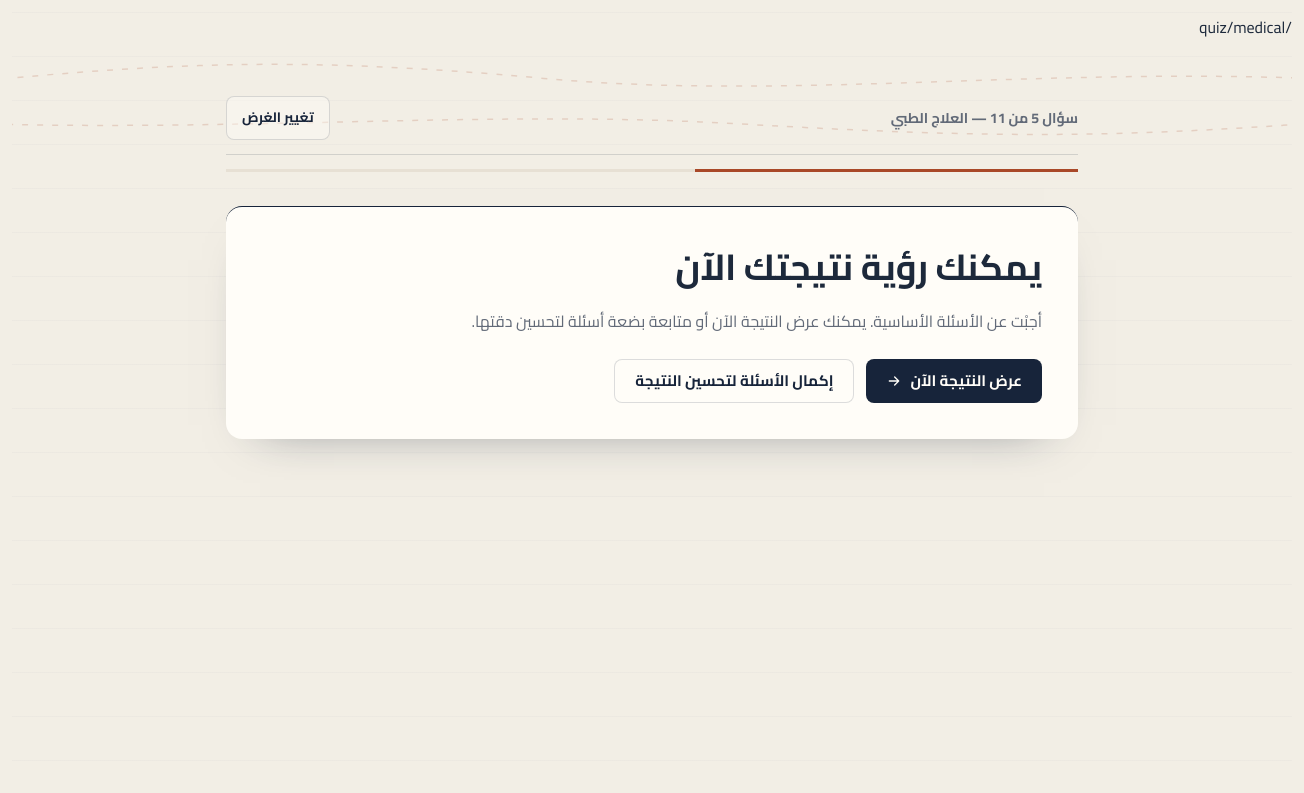
travel needs in the questionnaire › asks them after the Phase 14 questions, keeps them local, and sends nothing about them
Earlier steps of the test are not shown.
Later steps or results of the test are not shown.
Click the button "إكمال الأسئلة لتحسين النتيجة": [734, 381] box [614, 359, 854, 403]
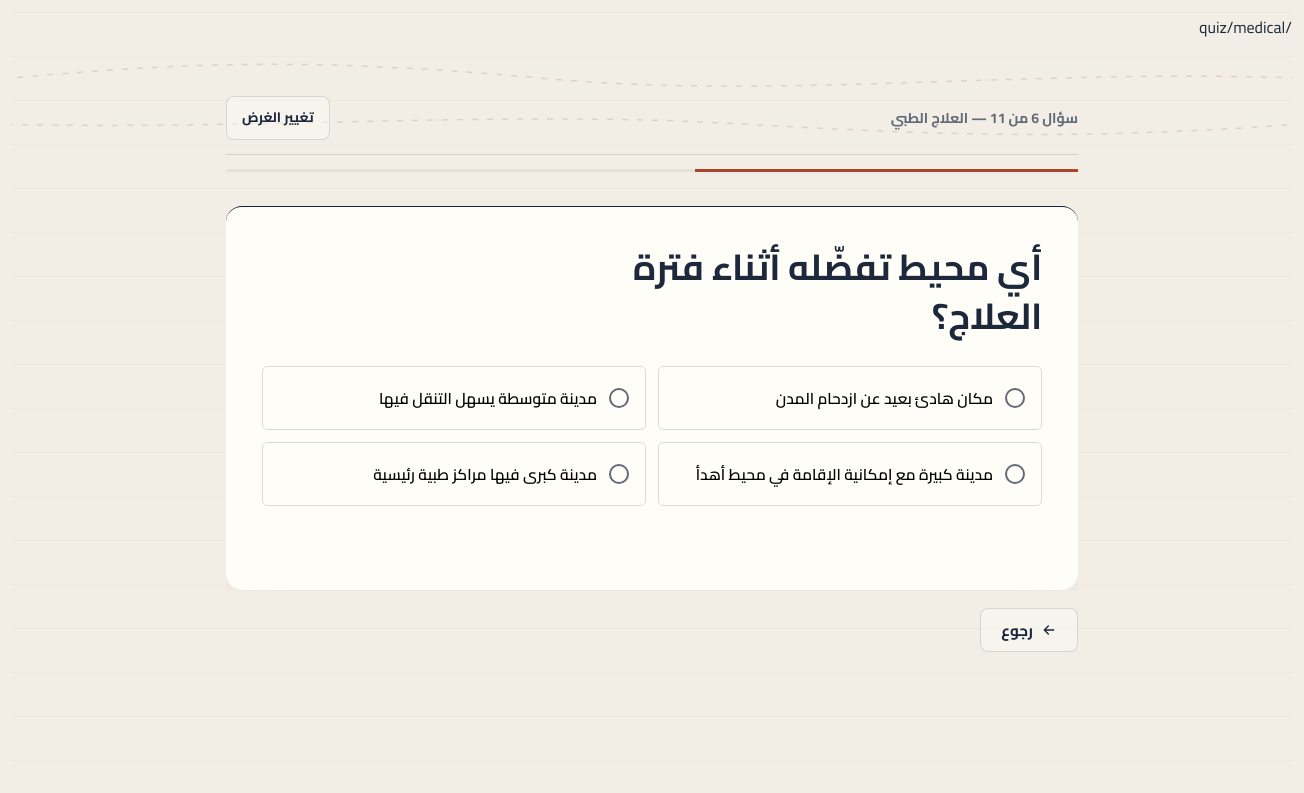
Click the radio button labelled "مكان هادئ بعيد عن ازدحام المدن": [850, 398] box [658, 366, 1042, 430]
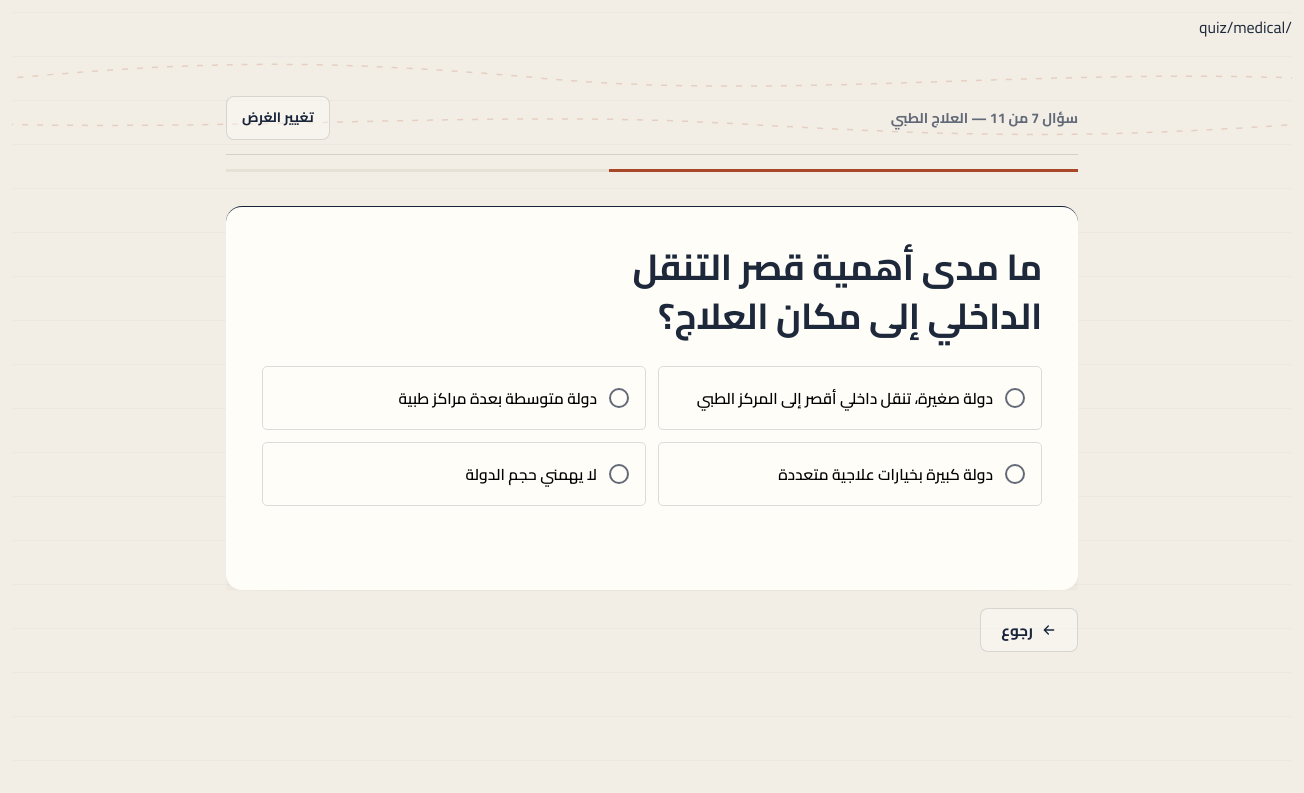
Click the radio button labelled "دولة صغيرة، تنقل داخلي أقصر إلى المركز الطبي": [850, 398] box [658, 366, 1042, 430]
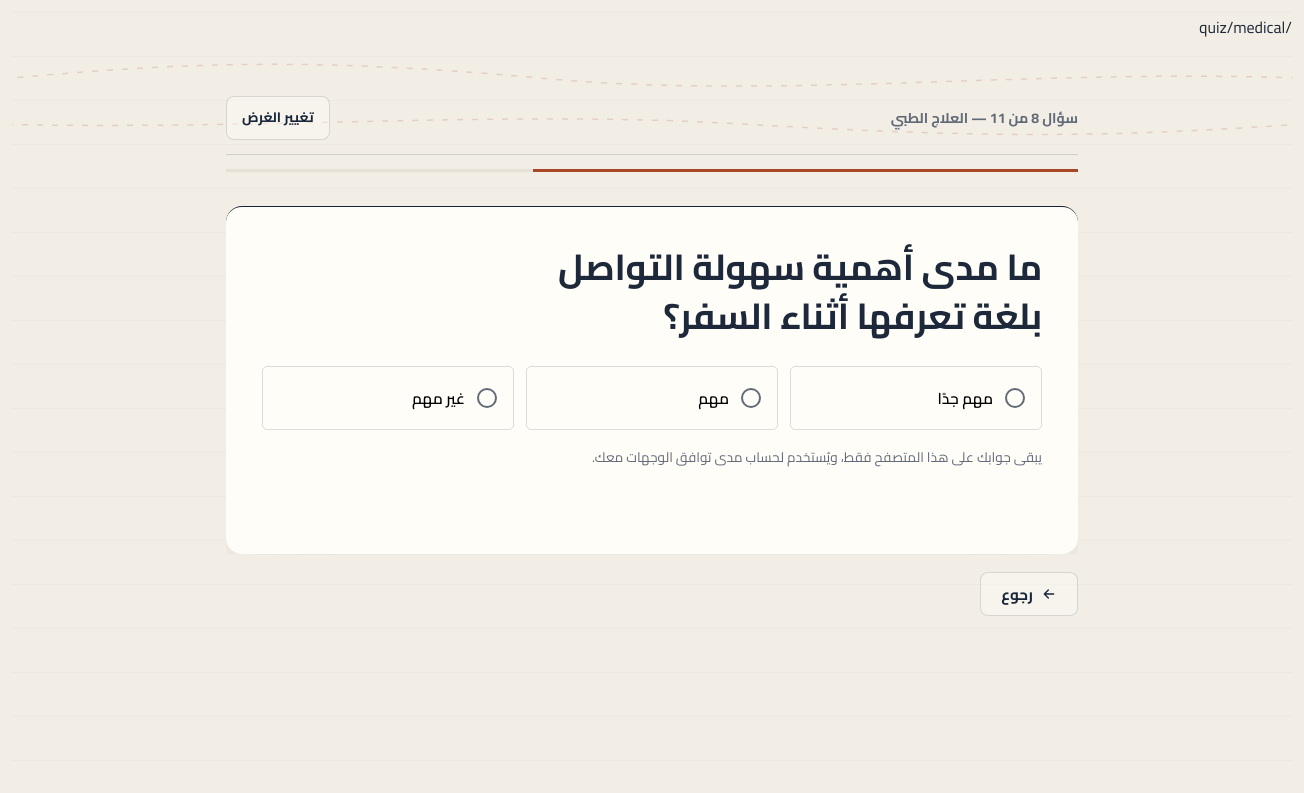
Expected: the heading "ما مدى أهمية سهولة التواصل بلغة تعرفها أثناء السفر؟" is shown, [522, 243, 1042, 340]
Expected: the text "يبقى جوابك على هذا المتصفح فقط" is shown, [592, 444, 1042, 470]
Click the radio button labelled "مهم جدًا": [916, 398] box [790, 366, 1042, 430]
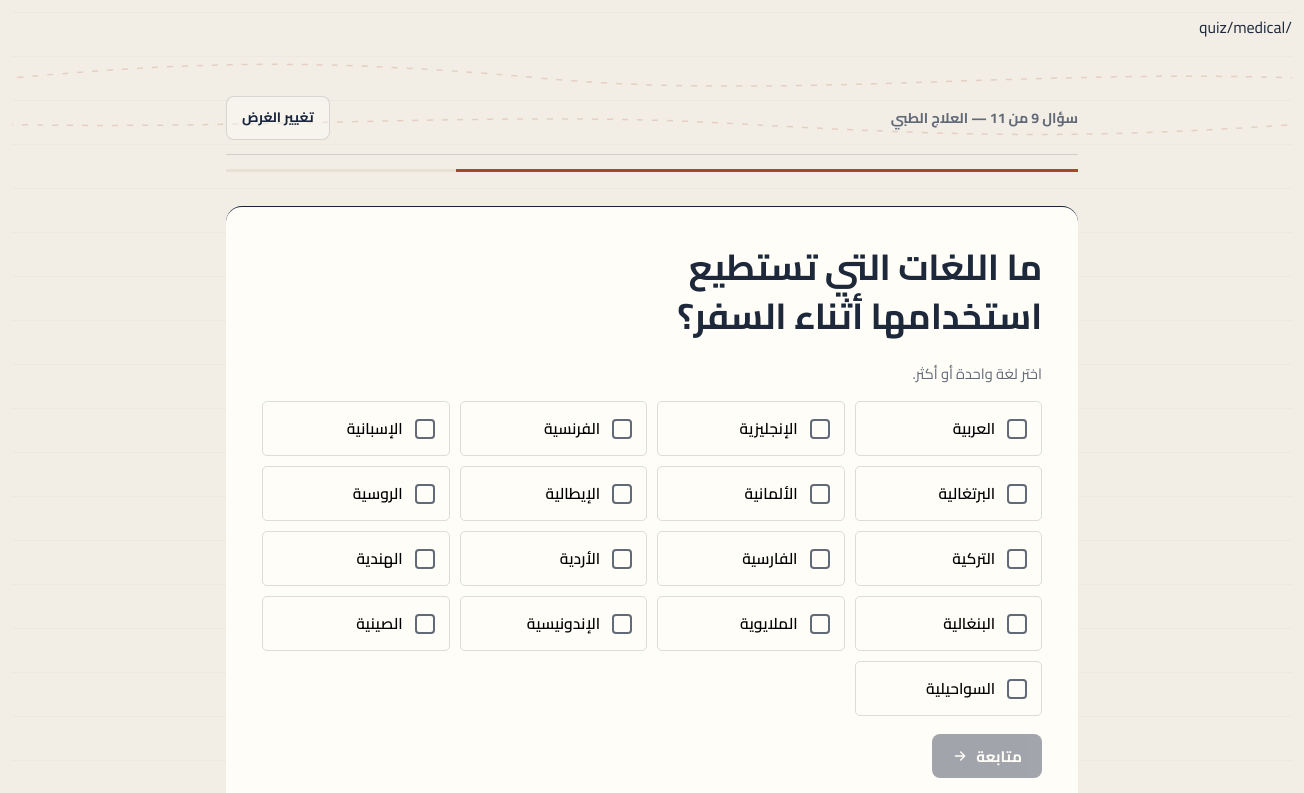
Expected: the button "متابعة" is disabled, [932, 734, 1042, 778]
Click the checkbox labelled "الإنجليزية": [751, 429] box [657, 401, 844, 456]
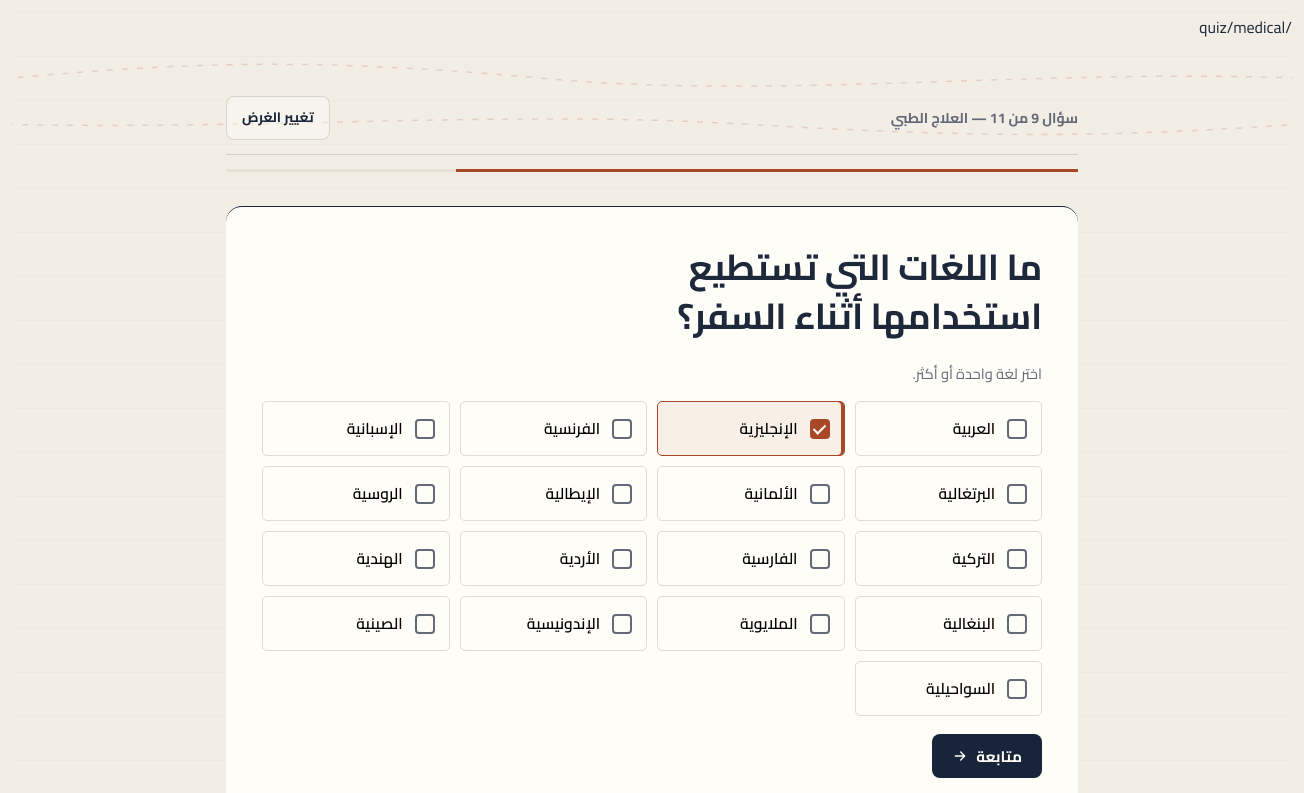
Click the checkbox labelled "العربية": [948, 429] box [854, 401, 1042, 456]
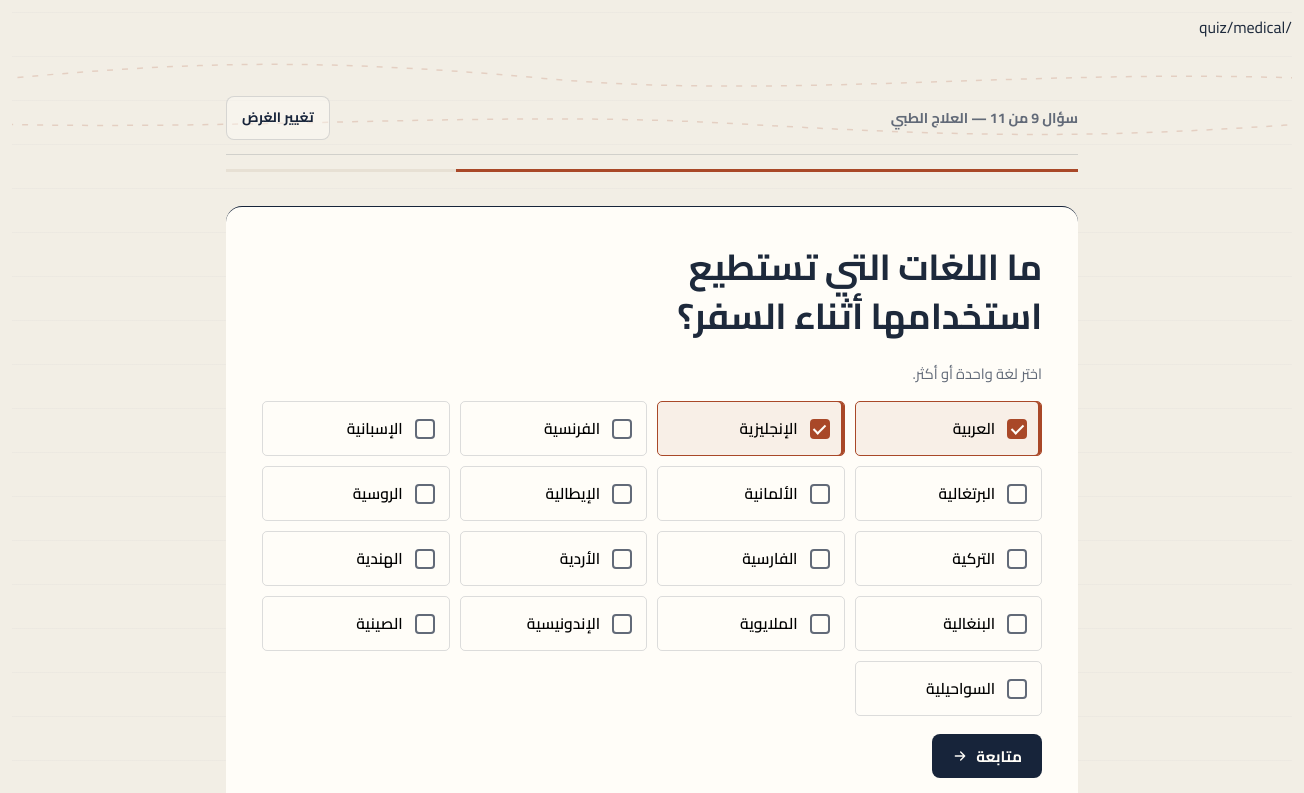
Expected: the checkbox labelled "العربية" is checked, [854, 401, 1042, 456]
